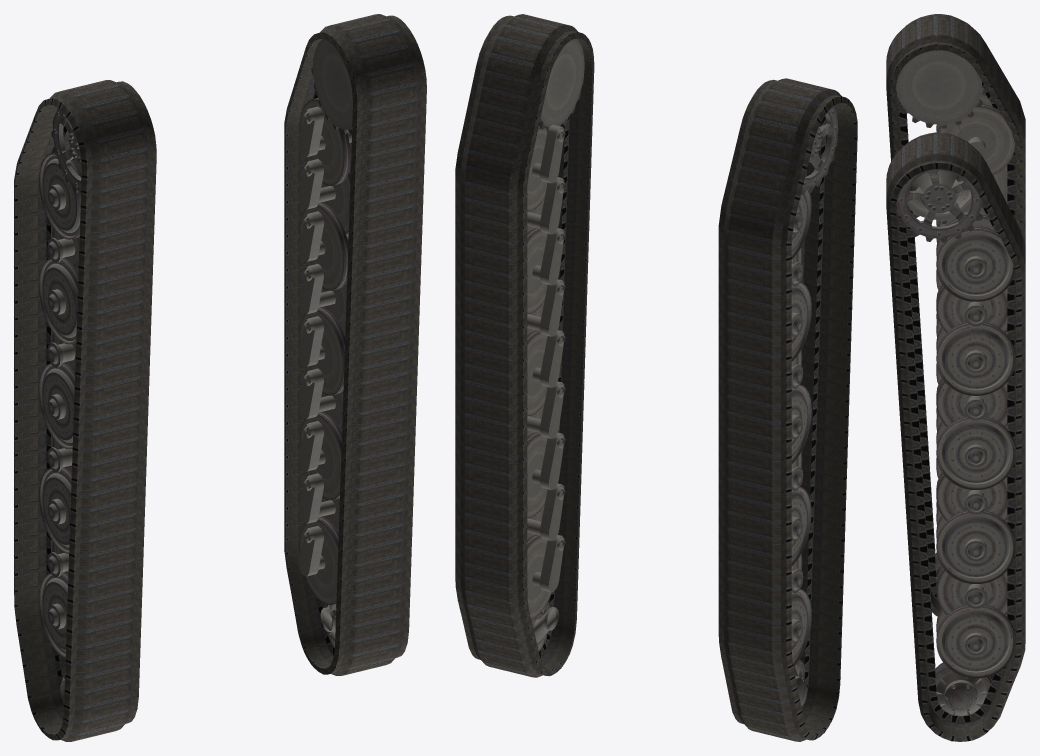
The model's file is Chassis.glb.
3 renders of one model, left to right at view 1: azimuth 30°, elevation 25°; view 2: azimuth 150°, elevation 25°; view 3: azimuth 270°, elevation 25°, orthographic. The views are drawn at different scales.
Parts seen in each view (by area): view 1: set_3_group_0, set_2_group_0, set_0_group_0, set_1_group_0; view 2: set_3_group_0, set_2_group_0, set_0_group_0, set_1_group_0; view 3: set_0_group_0, set_2_group_0, set_3_group_0, set_1_group_0.
Boxes of the visible parts, <box> form: set_3_group_0: <box>14,80,156,741</box>; set_2_group_0: <box>284,14,426,675</box>; set_0_group_0: <box>298,39,352,647</box>; set_1_group_0: <box>38,108,81,703</box>; set_3_group_0: <box>718,78,857,741</box>; set_2_group_0: <box>455,14,594,677</box>; set_0_group_0: <box>527,39,584,651</box>; set_1_group_0: <box>791,106,838,706</box>; set_0_group_0: <box>896,169,1015,716</box>; set_2_group_0: <box>886,132,1025,741</box>; set_3_group_0: <box>886,14,1025,616</box>; set_1_group_0: <box>896,50,1015,578</box>.
Size of the model in its own units: 3.54 by 6.42 by 1.38.
4 materials, 4 textured.
